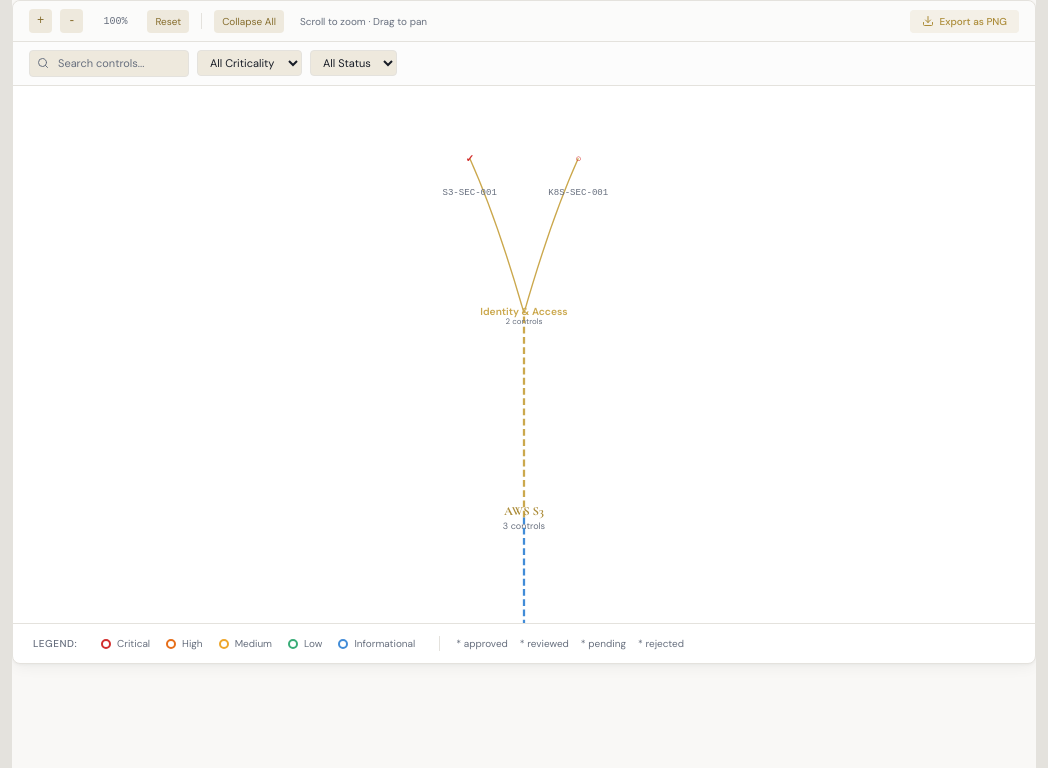
Test: BaselineMindMap integration › clear filters button resets search
Type "RBAC" into the field with placeholder "Search controls...".
click(109, 63); type("RBAC")  # box [29,50,189,76]
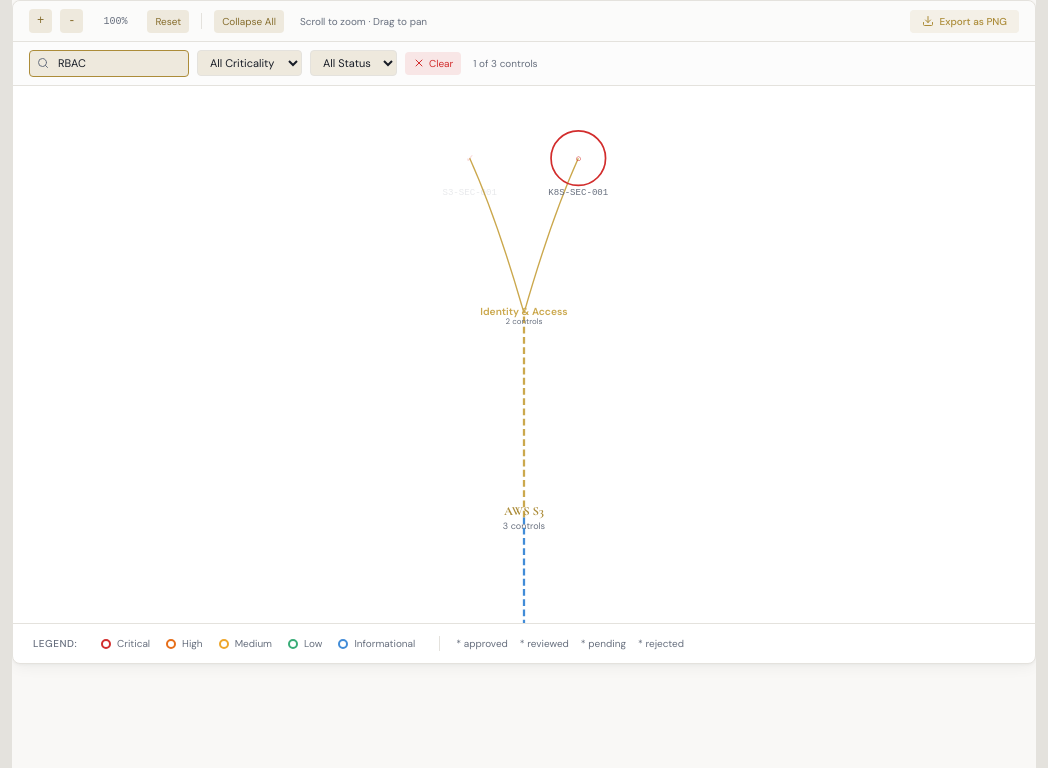
Expected: the text "1 of 3 controls" is shown, [473,56,538,71]
Click the button "Clear".
click(433, 63)  # box [405,52,461,75]
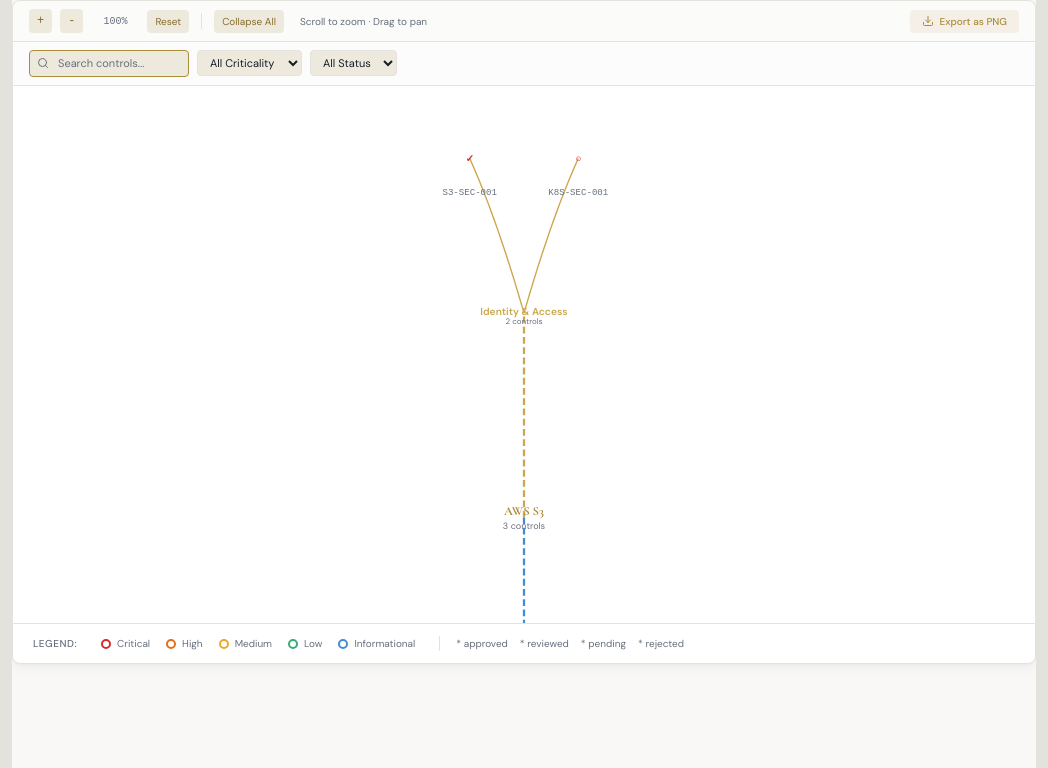
Expected: the text "of 3 controls" is gone
